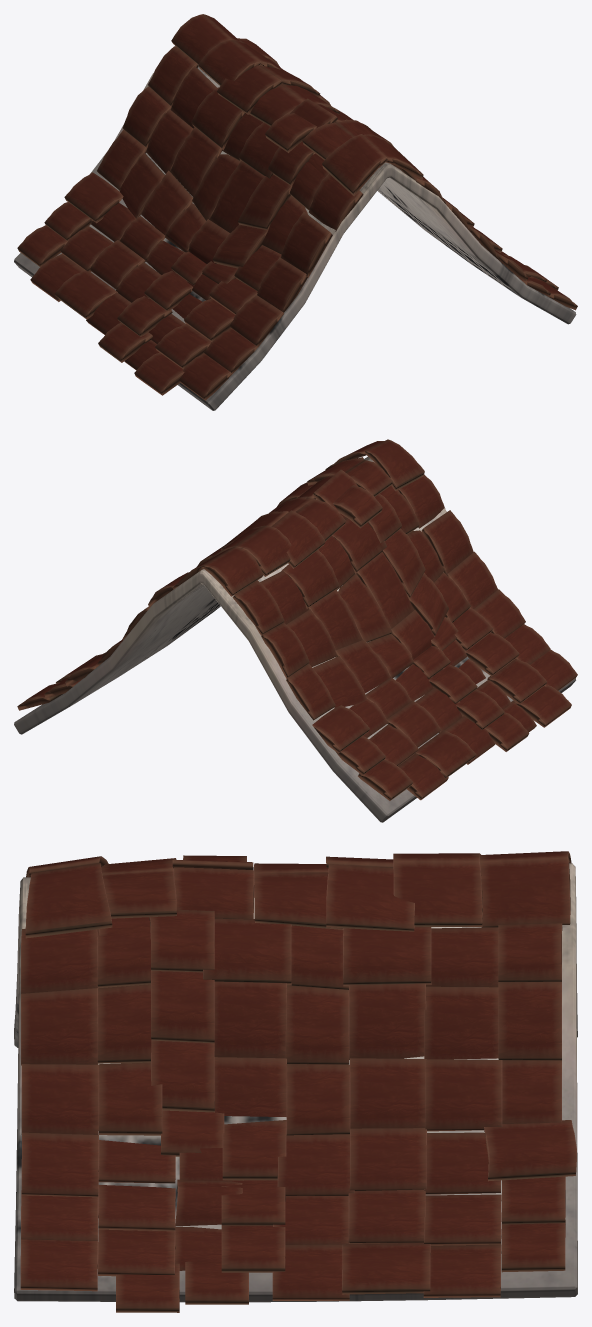
The model's file is Roof_V2.fbx.
3 renders of one model, top to bottom at view 1: azimuth 30°, elevation 25°; view 2: azimuth 150°, elevation 25°; view 3: azimuth 270°, elevation 25°, orthographic. The views are drawn at different scales.
Visible parts, largest first — view 1: Roof_Tile1.002; view 2: Roof_Tile1.002; view 3: Roof_Tile1.002.
Boxes of the visible parts, x1,y1,x2,y2 form: Roof_Tile1.002: [14, 14, 577, 410]; Roof_Tile1.002: [14, 439, 577, 822]; Roof_Tile1.002: [14, 851, 577, 1312].
Bounding box in the file's own units: 517 × 264 × 425.
